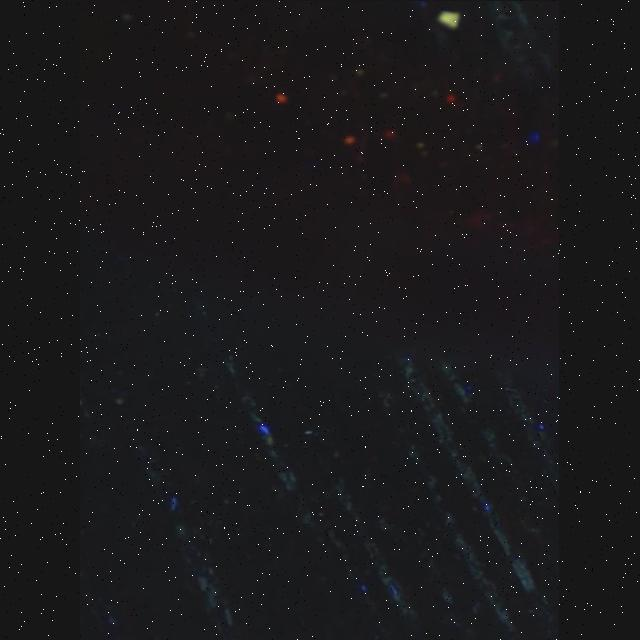microbeads: (438, 9, 464, 29)
